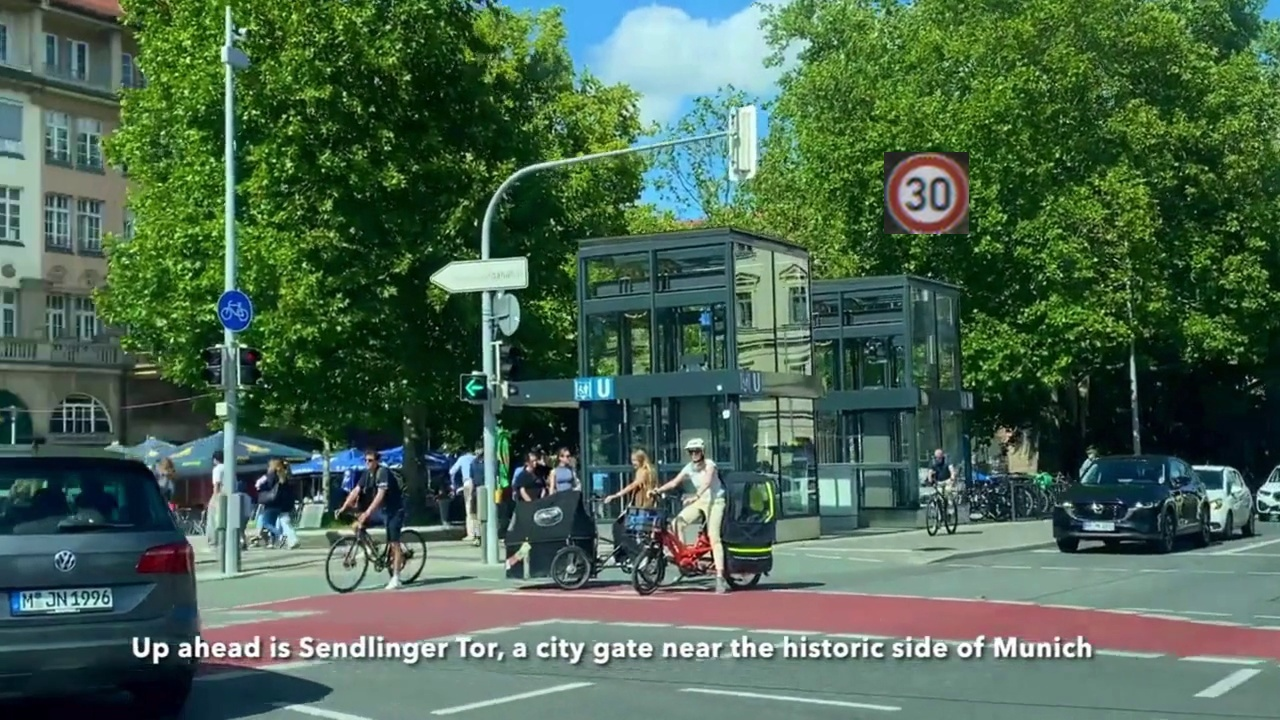Speed 30: (884, 152, 969, 234)
